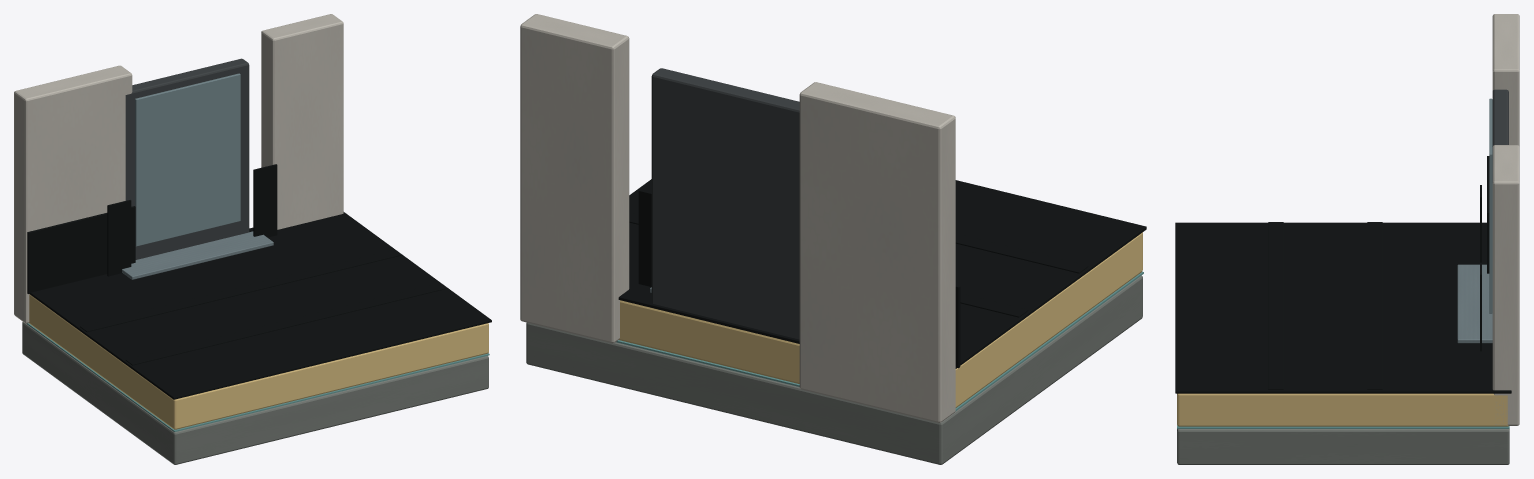
File: modell.glb
The picture shows the model from 3 angles, left to right: view 1: azimuth 30°, elevation 25°; view 2: azimuth 150°, elevation 25°; view 3: azimuth 270°, elevation 25°; orthographic projection. The views are drawn at different scales.
Visible parts, largest first — view 1: f07-abdichtung_deckung, f07-wand_, f07-tuer_.001, f07-untergrund_tragwerk, f07-daemmung_daemmung, f07-tuer_, f07-naht_deckung, f07-anschluss_deckung.001, f07-anschluss_deckung, f07-luftdichtheit_luftdichtheit; view 2: f07-wand_, f07-tuer_, f07-untergrund_tragwerk, f07-abdichtung_deckung, f07-daemmung_daemmung, f07-naht_deckung, f07-luftdichtheit_luftdichtheit, f07-anschluss_deckung.001; view 3: f07-abdichtung_deckung, f07-untergrund_tragwerk, f07-daemmung_daemmung, f07-wand_, f07-naht_deckung, f07-anschluss_deckung, f07-luftdichtheit_luftdichtheit, f07-tuer_, f07-tuer_.001.
Boxes of the visible parts, x1=… form: f07-abdichtung_deckung: x1=27, y1=206, x2=491, y2=399; f07-wand_: x1=14, y1=14, x2=343, y2=323; f07-tuer_.001: x1=135, y1=73, x2=240, y2=246; f07-untergrund_tragwerk: x1=22, y1=322, x2=488, y2=464; f07-daemmung_daemmung: x1=29, y1=294, x2=488, y2=429; f07-tuer_: x1=125, y1=58, x2=249, y2=259; f07-naht_deckung: x1=80, y1=249, x2=447, y2=365; f07-anschluss_deckung.001: x1=107, y1=164, x2=277, y2=276; f07-anschluss_deckung: x1=122, y1=231, x2=273, y2=279; f07-luftdichtheit_luftdichtheit: x1=26, y1=323, x2=489, y2=431; f07-wand_: x1=520, y1=14, x2=955, y2=422; f07-tuer_: x1=651, y1=68, x2=799, y2=339; f07-untergrund_tragwerk: x1=526, y1=275, x2=1142, y2=464; f07-abdichtung_deckung: x1=618, y1=179, x2=1146, y2=368; f07-daemmung_daemmung: x1=619, y1=232, x2=1142, y2=407; f07-naht_deckung: x1=629, y1=212, x2=1088, y2=317; f07-luftdichtheit_luftdichtheit: x1=616, y1=271, x2=1143, y2=411; f07-anschluss_deckung.001: x1=638, y1=190, x2=651, y2=286; f07-abdichtung_deckung: x1=1175, y1=156, x2=1511, y2=393; f07-untergrund_tragwerk: x1=1177, y1=429, x2=1509, y2=464; f07-daemmung_daemmung: x1=1177, y1=393, x2=1508, y2=426; f07-wand_: x1=1492, y1=14, x2=1519, y2=425; f07-naht_deckung: x1=1268, y1=222, x2=1382, y2=389; f07-anschluss_deckung: x1=1457, y1=264, x2=1492, y2=343; f07-luftdichtheit_luftdichtheit: x1=1177, y1=425, x2=1509, y2=428; f07-tuer_: x1=1492, y1=89, x2=1508, y2=146; f07-tuer_.001: x1=1489, y1=98, x2=1492, y2=313.
Bounding box in the file's own units: 2.24 × 1.74 × 1.92.
8 materials, 3 textured.
